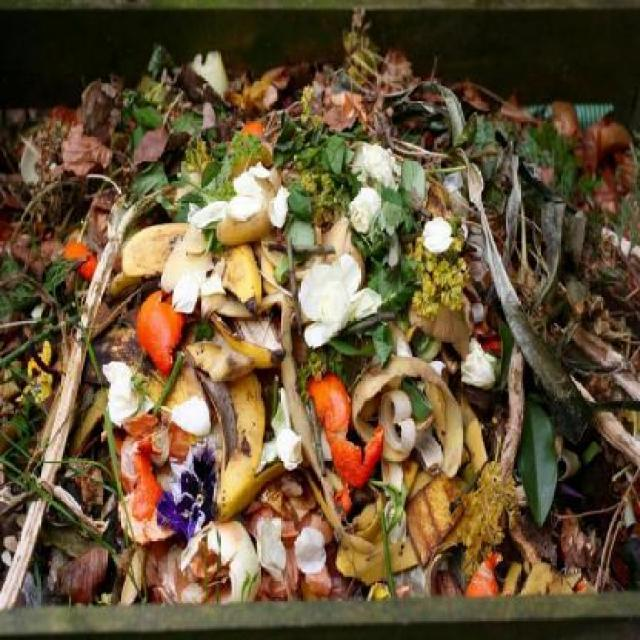garbage: (2, 105, 636, 591)
